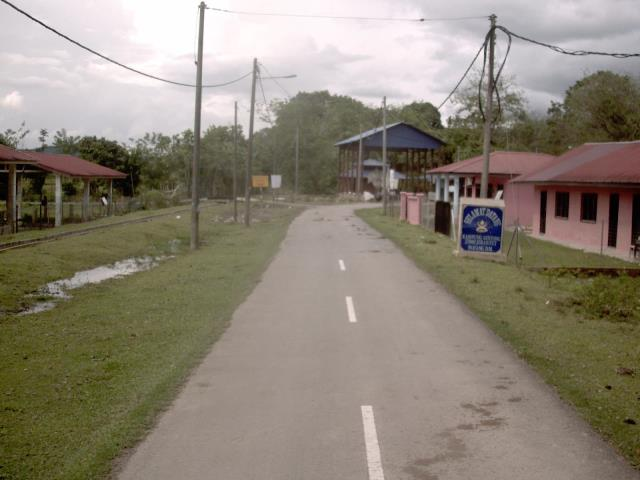ads_sign: (453, 200, 509, 258)
